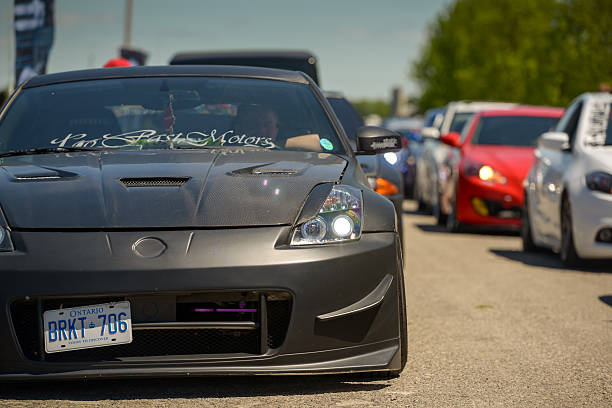licence: (29, 294, 138, 357)
